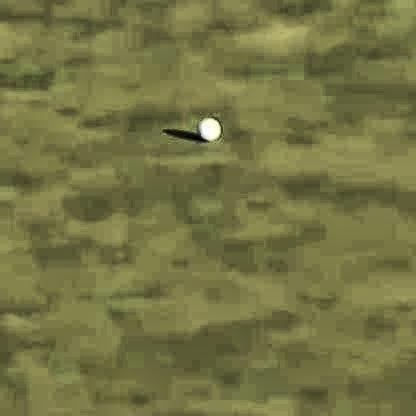golfball: (196, 110, 218, 138)
